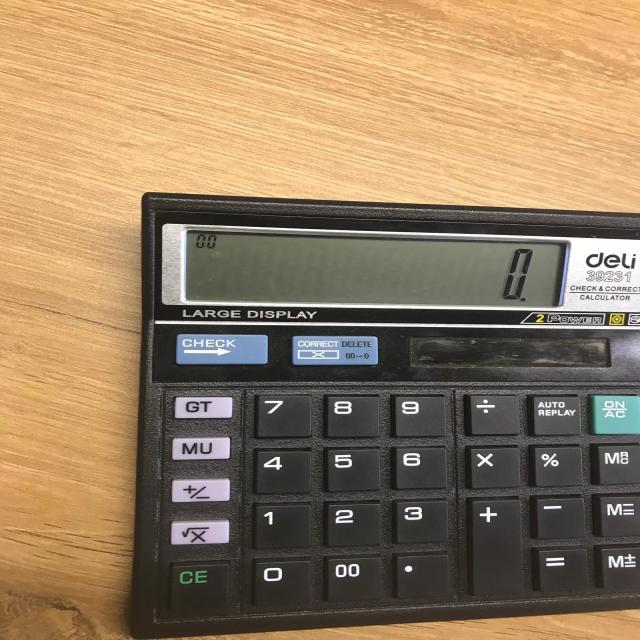calculator: (128, 190, 639, 638)
